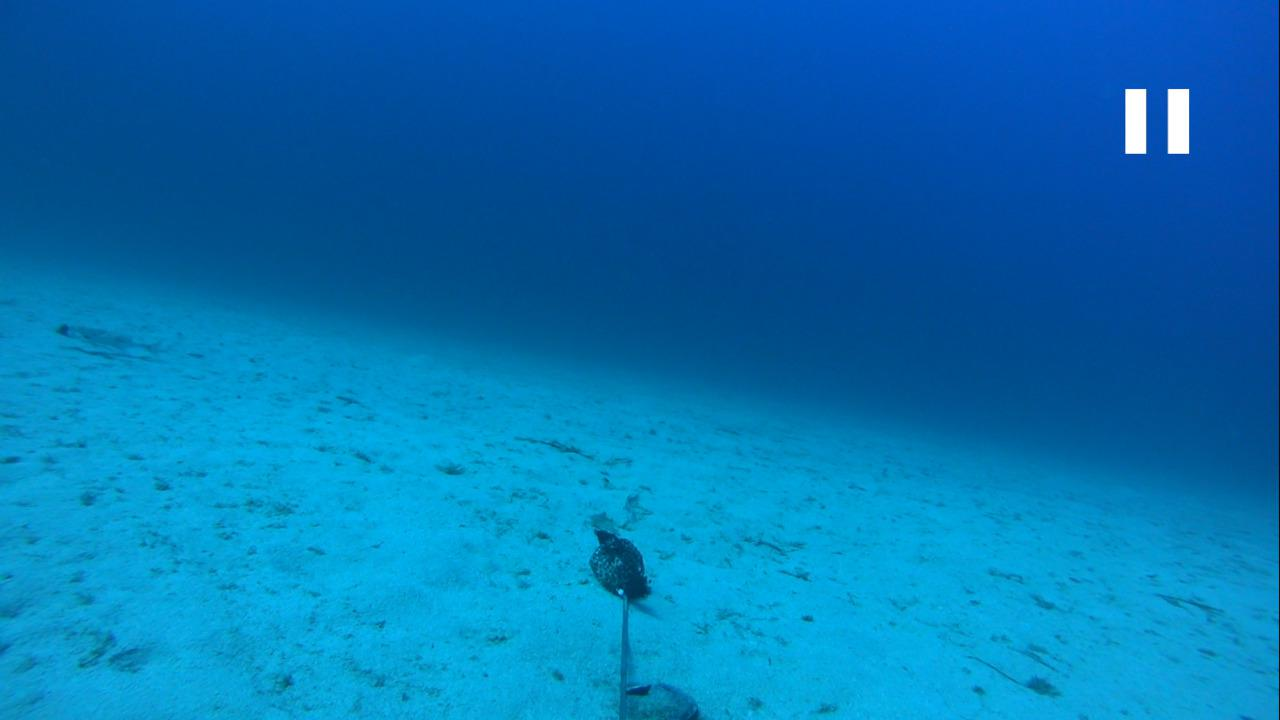dactylopterus: (38, 317, 172, 368)
